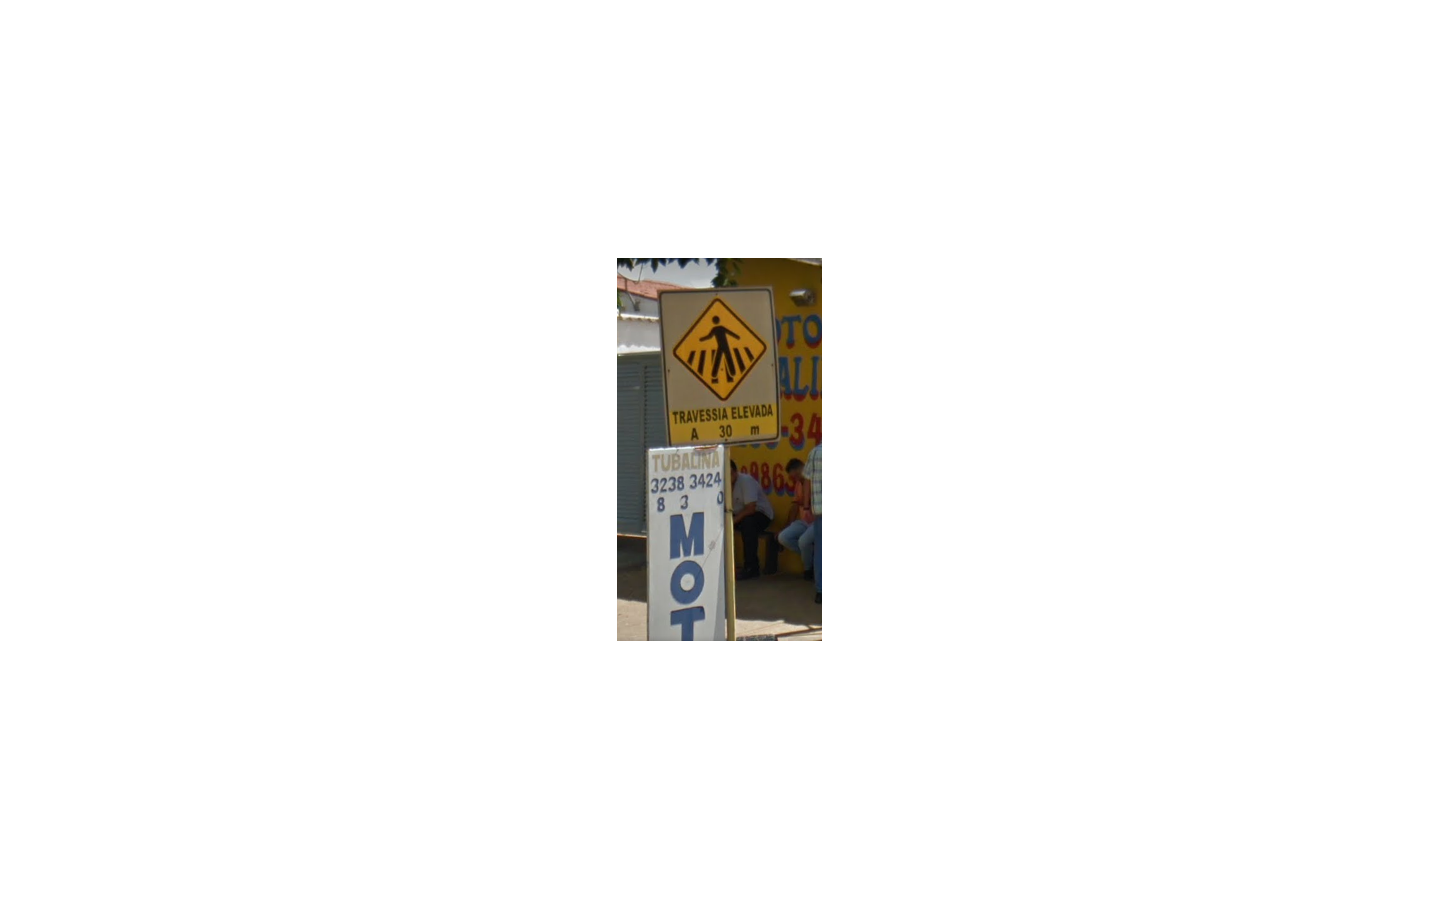t30m: (656, 285, 781, 447)
